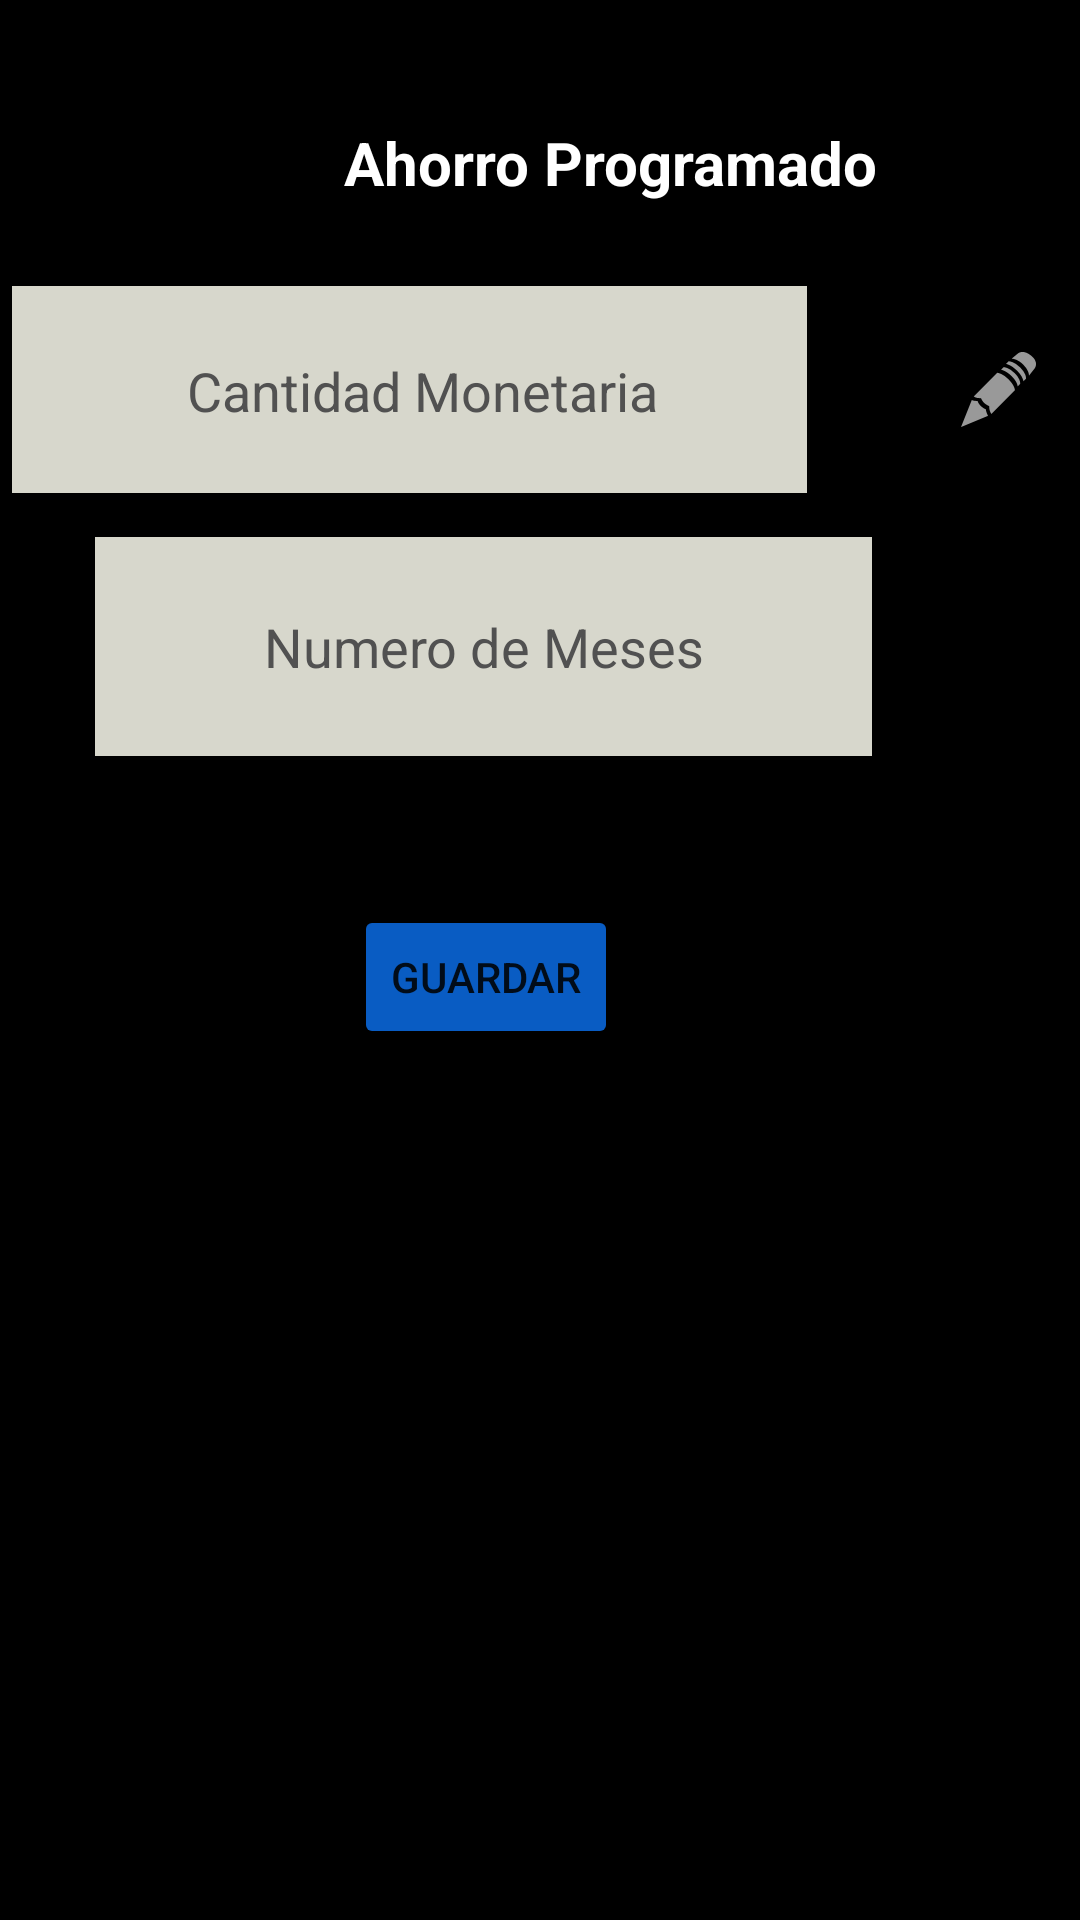

Icon bounding boxes for this 1080*1920 phone screenshot, format (x1, y1, x2, y2):
edit: (961, 352, 1036, 427)
